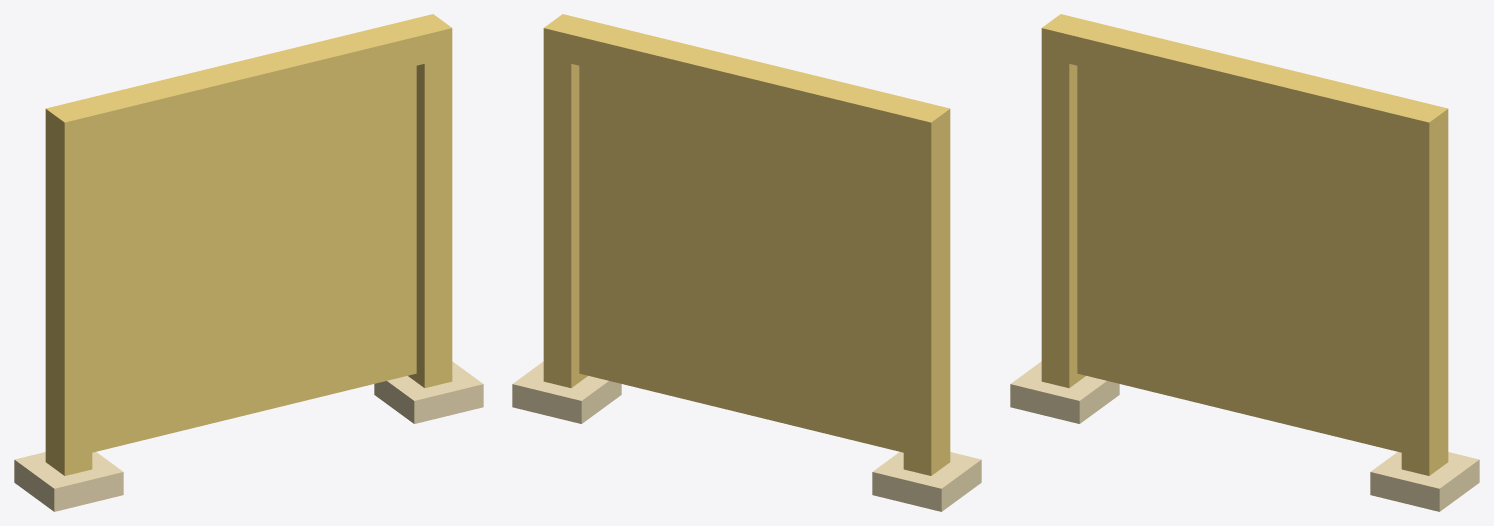
The model's file is NG_gate_gold.glb.
The picture shows the model from 3 angles, left to right: view 1: azimuth 30°, elevation 25°; view 2: azimuth 150°, elevation 25°; view 3: azimuth 330°, elevation 25°; orthographic projection.
Parts seen in each view (by area): view 1: panel, left, top, right, left_foot, right_foot; view 2: panel, top, left, right, left_foot, right_foot; view 3: panel, top, right, left, right_foot, left_foot.
Part boxes in pixels (left/top/right/bottom): panel: left=92, top=66, right=416, bottom=452; left: left=45, top=102, right=92, bottom=475; top: left=45, top=15, right=451, bottom=151; right: left=406, top=14, right=452, bottom=387; left_foot: left=14, top=452, right=123, bottom=511; right_foot: left=374, top=361, right=483, bottom=423; panel: left=579, top=66, right=903, bottom=452; top: left=544, top=15, right=950, bottom=151; left: left=903, top=102, right=950, bottom=475; right: left=543, top=14, right=589, bottom=387; left_foot: left=872, top=452, right=981, bottom=511; right_foot: left=512, top=361, right=621, bottom=423; panel: left=1077, top=66, right=1401, bottom=452; top: left=1042, top=14, right=1448, bottom=151; right: left=1401, top=102, right=1448, bottom=475; left: left=1041, top=14, right=1087, bottom=387; right_foot: left=1370, top=452, right=1479, bottom=511; left_foot: left=1010, top=361, right=1119, bottom=423.
Size of the model in its own units: 3.1 by 2.6 by 0.5.
